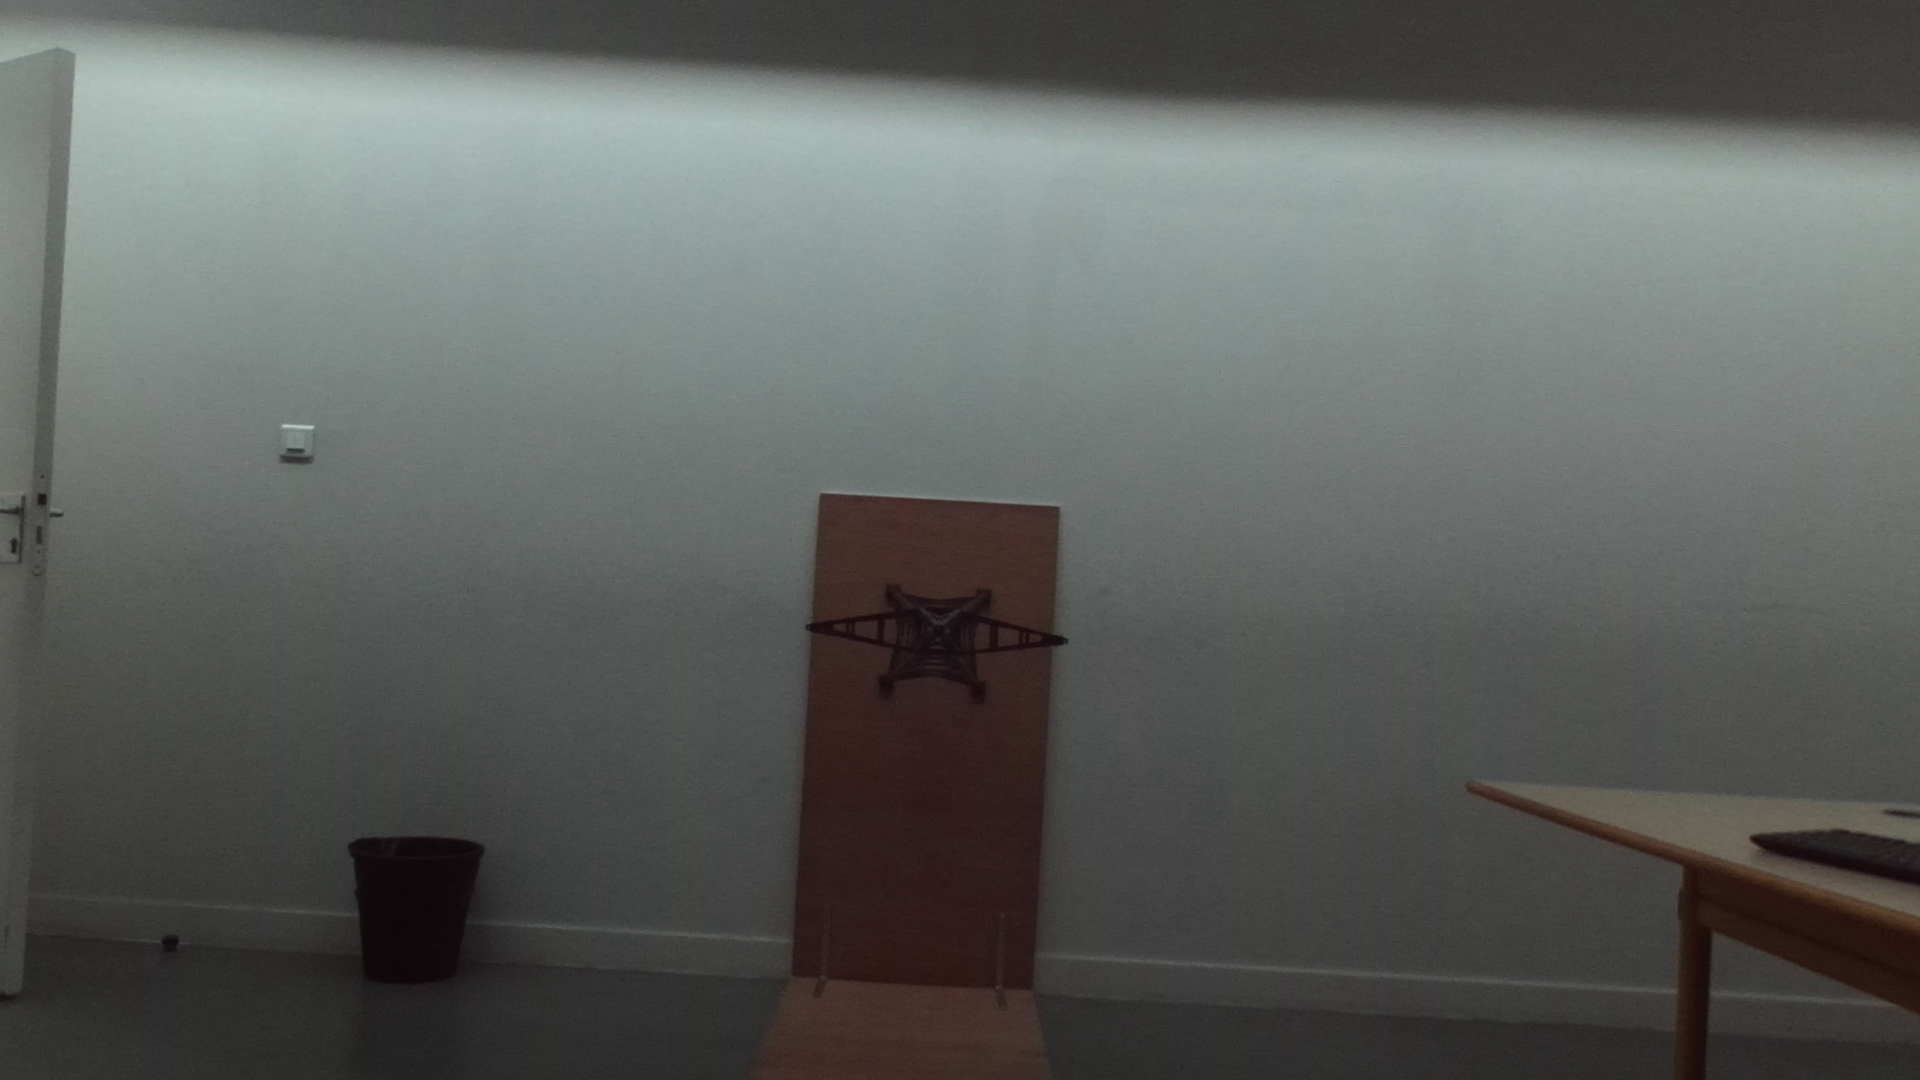pylon_phy: (803, 605, 1072, 659)
